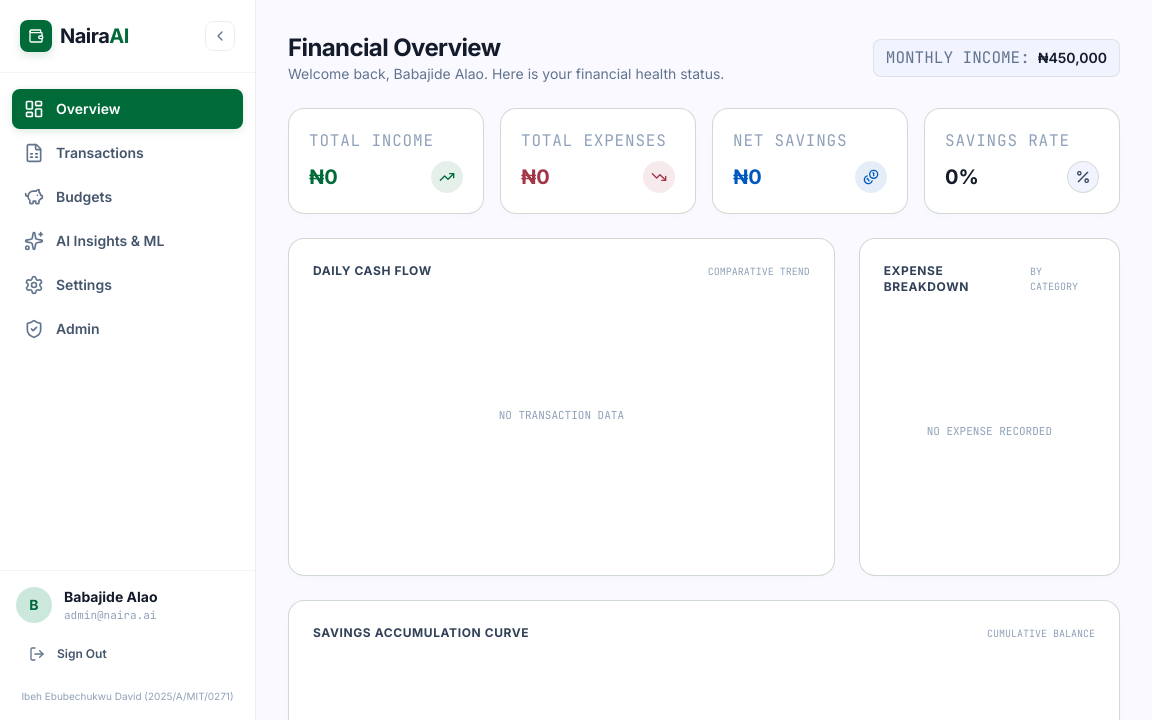
Test: Admin tab › advances to the next page of users
Expected: the heading "Financial Overview" is shown, [288,33,500,62]
What coordinates should you click on to do the following:
click the button "Admin"
I would click on:
 (128, 329)
Its box is [12,309,243,349].
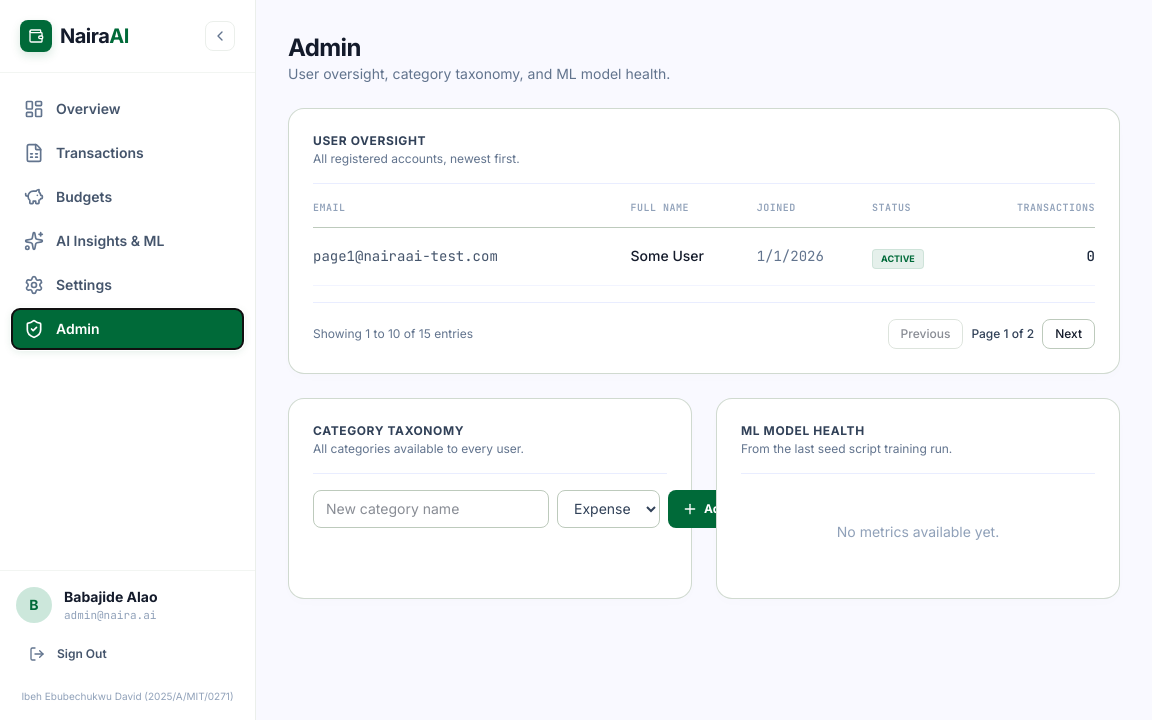
Expected: the heading "User Oversight" is shown, [313,133,426,148]
Expected: the text "page1@nairaai-test.com" is shown, [313,228,630,285]
What coordinates should you click on to do the following:
click the button "Next"
I would click on:
 (1069, 334)
Its box is [1042,318,1095,348].
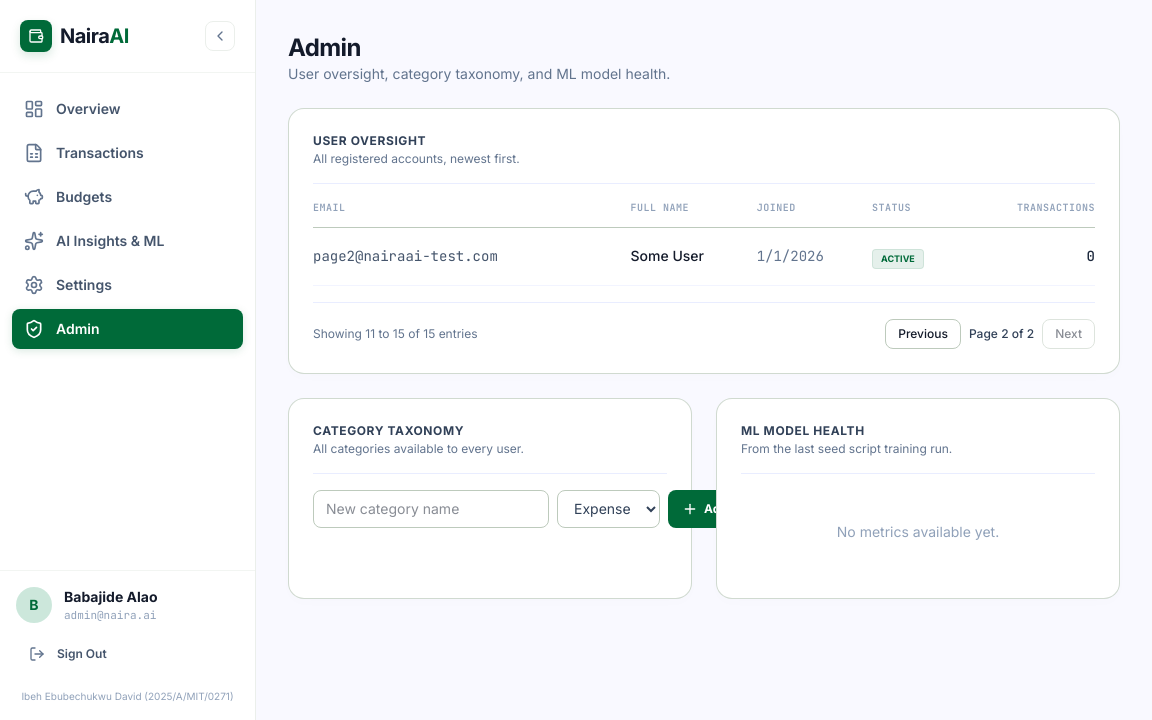
Expected: the text "page2@nairaai-test.com" is shown, [313,228,630,285]
Expected: the text "Page 2 of 2" is shown, [969,326,1034,342]
